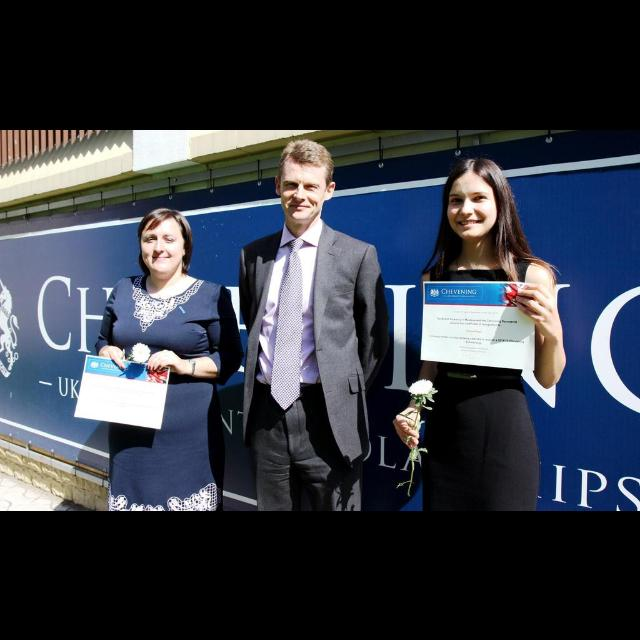Flower: (408, 378, 432, 400), (132, 341, 148, 363)
